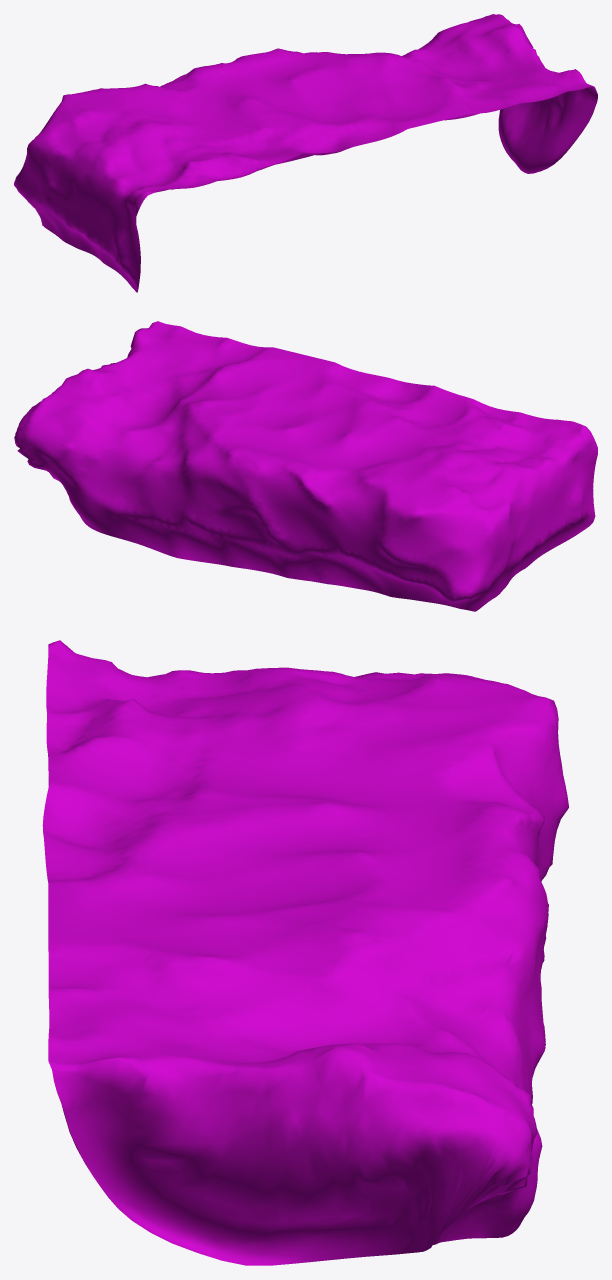
Rendered from expbf_start_grass.gltf.
The picture shows the model from 3 angles, top to bottom: view 1: azimuth 30°, elevation 25°; view 2: azimuth 150°, elevation 25°; view 3: azimuth 270°, elevation 25°; orthographic projection. The views are drawn at different scales.
Parts seen in each view (by area): view 1: grass; view 2: grass; view 3: grass.
Part boxes in pixels (bbox=[...]): grass: bbox=[14, 14, 597, 292]; grass: bbox=[14, 321, 597, 611]; grass: bbox=[42, 640, 568, 1265].
Size of the model in its own units: 196 by 48.47 by 95.11.
